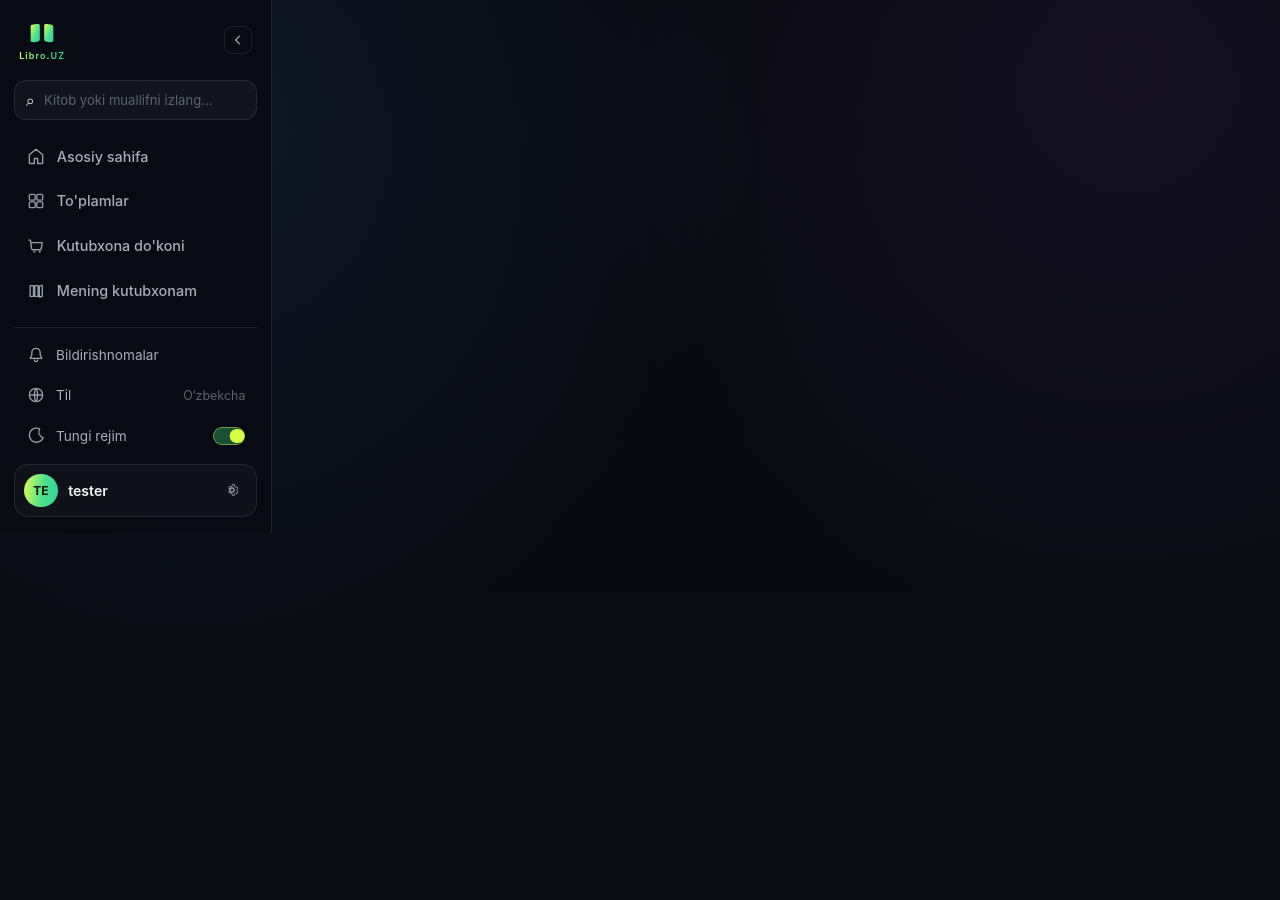
Scenario: AppSidebar notifications › surfaces a visible error when notifications fail to load
Click the button "Bildirishnomalar": point(136, 355) left=14, top=336, right=257, bottom=374
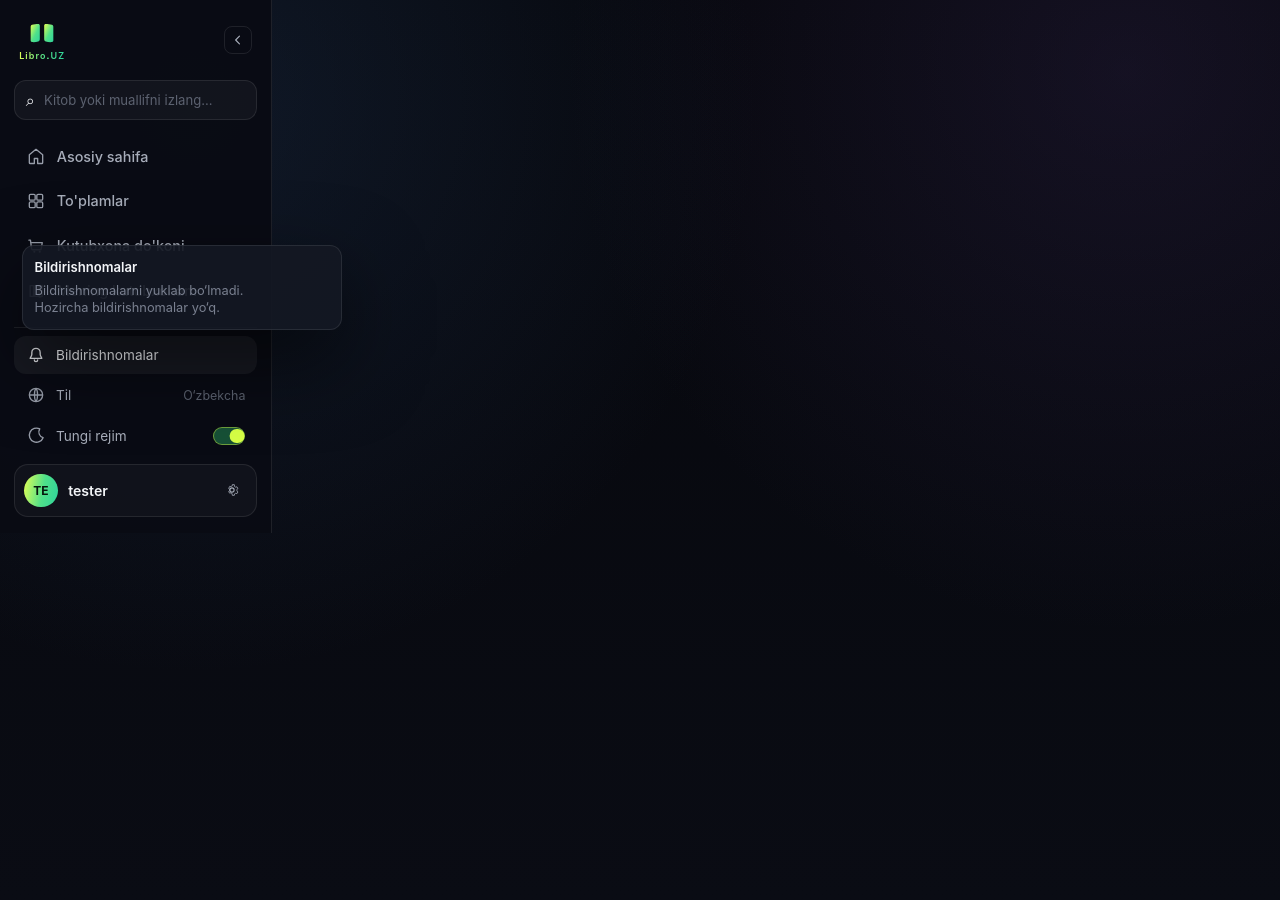
Result: the message reads "Bildirishnomalarni yuklab bo‘lmadi." at left=35, top=282, right=243, bottom=298
